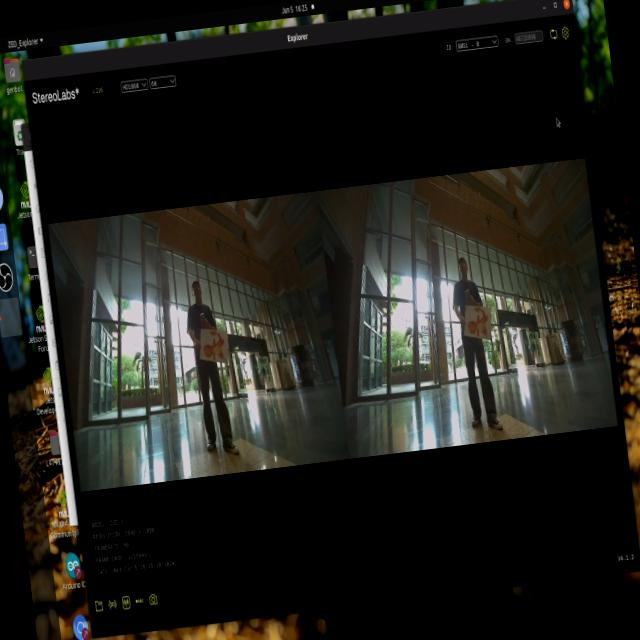red: (195, 322, 237, 371), (462, 294, 497, 346)
